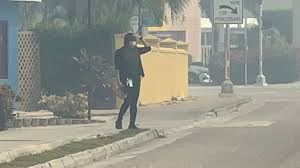mask: (121, 29, 141, 49)
